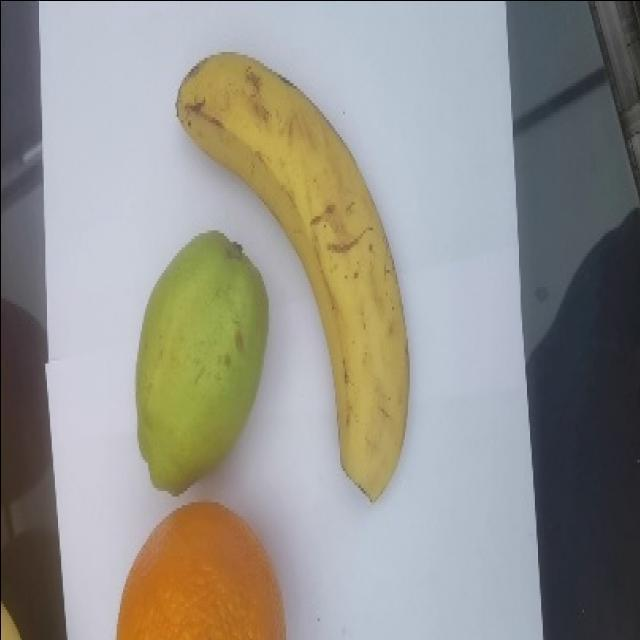Banana: (174, 50, 410, 502)
Orange: (115, 500, 286, 639)
